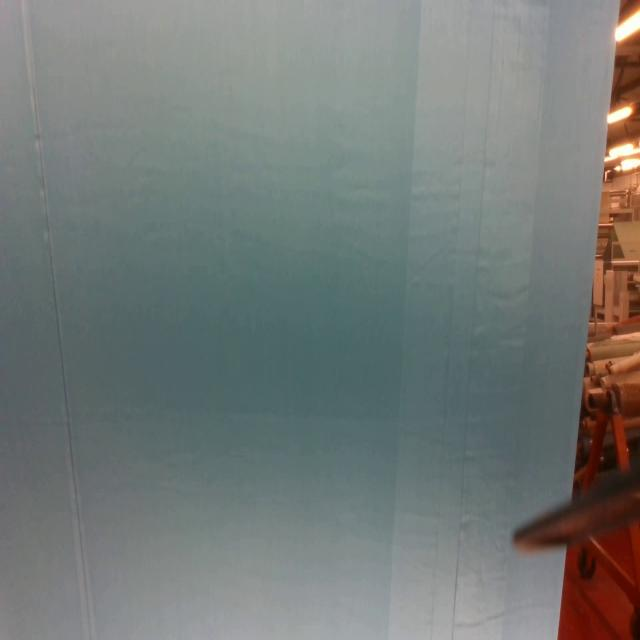crease: (21, 0, 94, 640), (429, 0, 496, 638)
